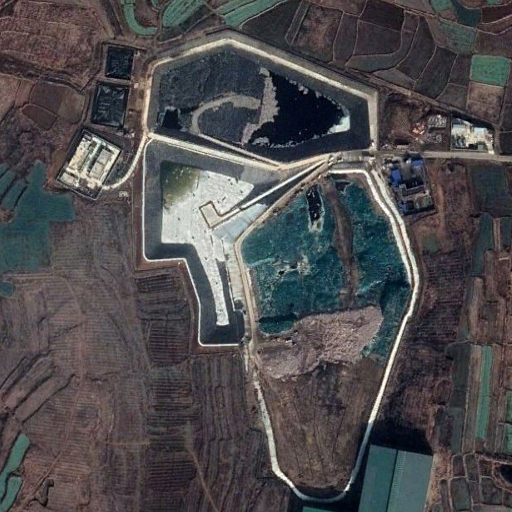lf: (135, 26, 419, 379)
